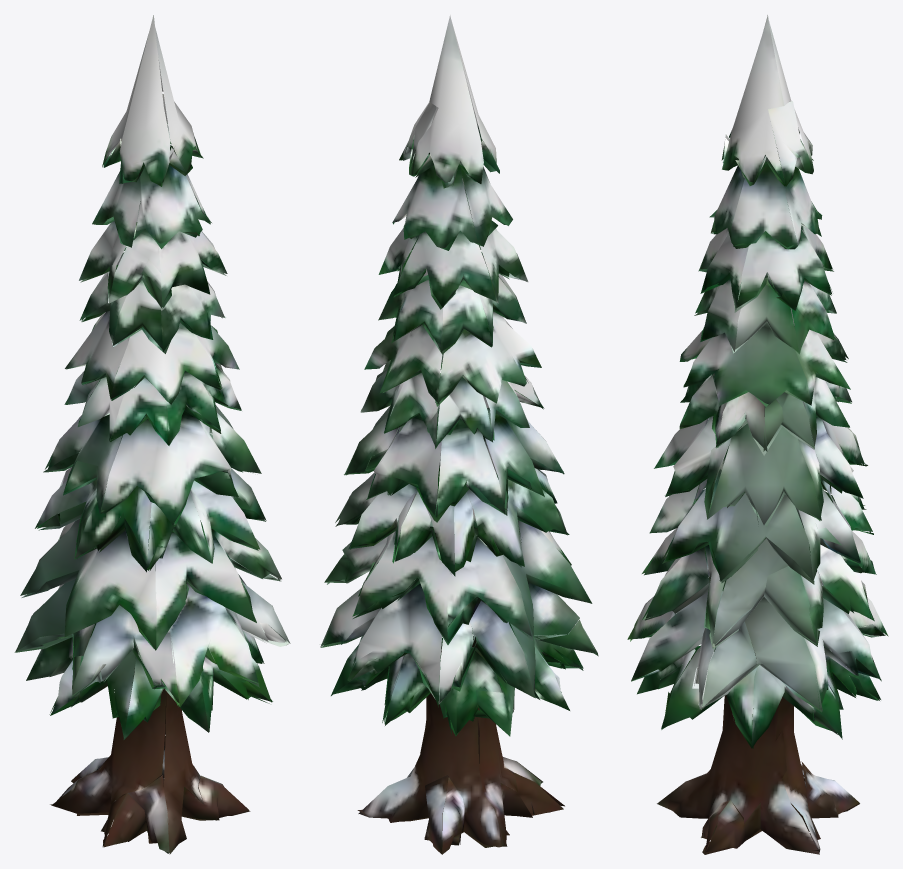
The model's file is tree_gen_b.glb.
The picture shows the model from 3 angles, left to right: view 1: azimuth 30°, elevation 25°; view 2: azimuth 150°, elevation 25°; view 3: azimuth 270°, elevation 25°; orthographic projection. The views are drawn at different scales.
Parts seen in each view (by area): view 1: tree_gen.001; view 2: tree_gen.001; view 3: tree_gen.001.
Boxes of the visible parts, x1=… form: tree_gen.001: x1=14, y1=15, x2=290, y2=854; tree_gen.001: x1=320, y1=15, x2=598, y2=854; tree_gen.001: x1=627, y1=15, x2=888, y2=854.
Size of the model in its own units: 2.6 by 9.02 by 2.63.
1 material, 1 textured.
